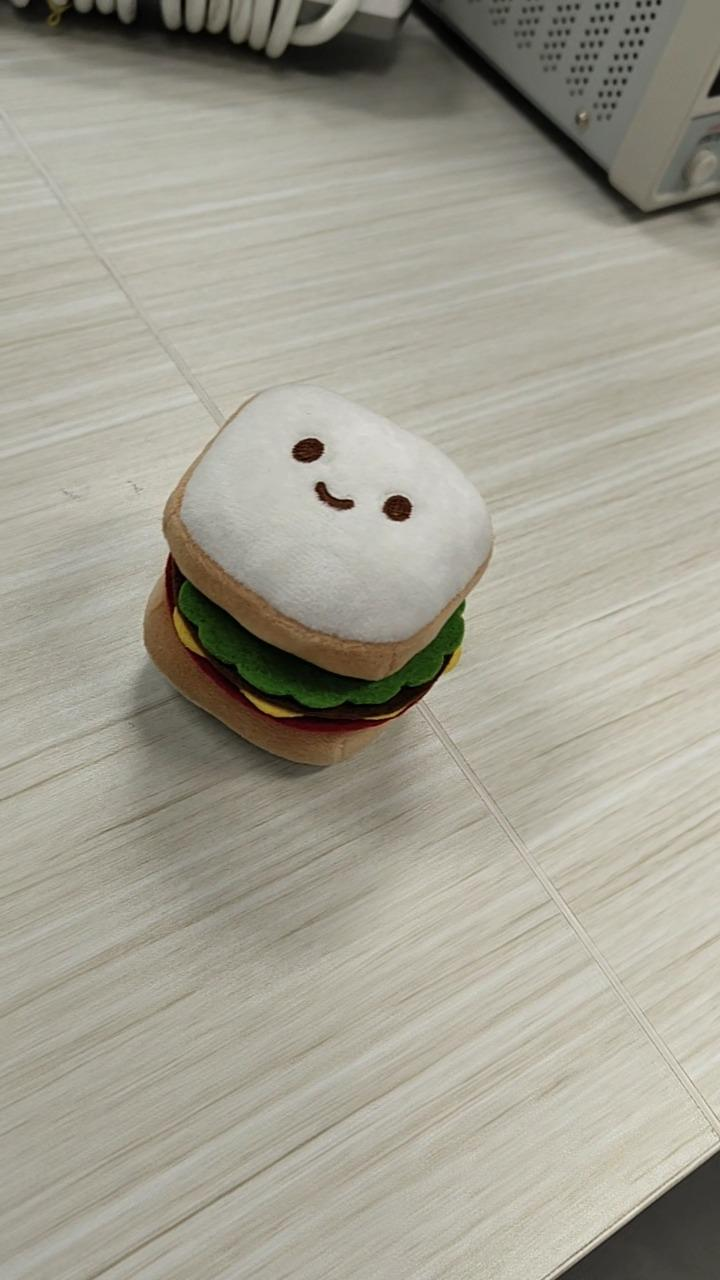objects: (141, 379, 494, 768)
